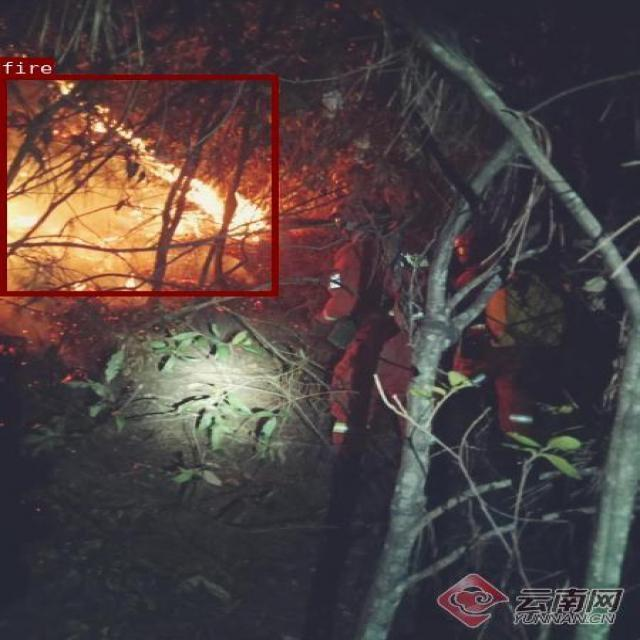fire: (0, 74, 276, 296)
